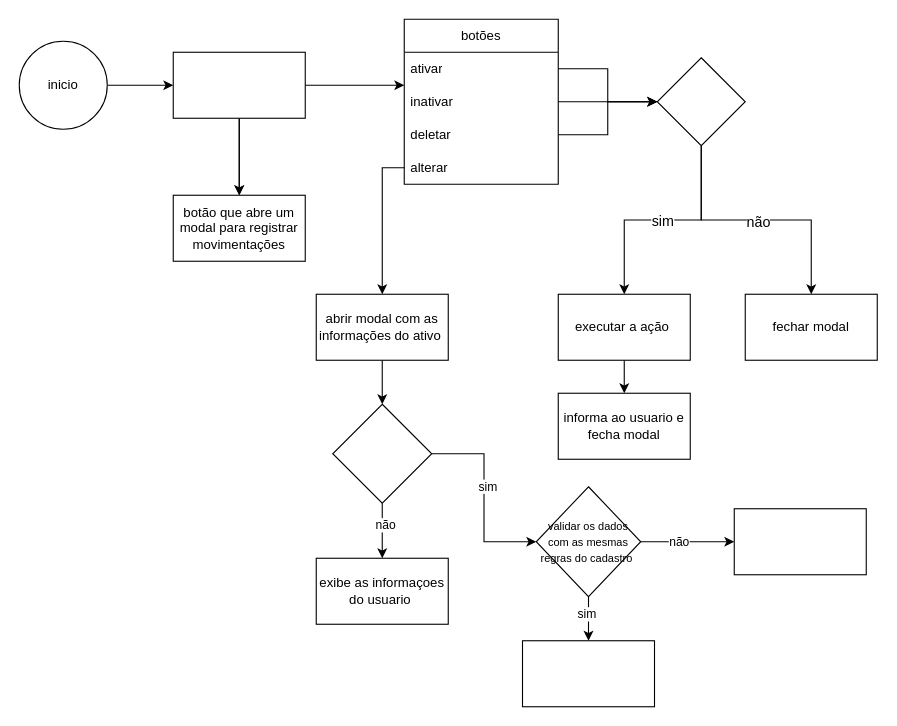
Image size: 897x726. Some labels were removed from this diagram. The centre of each missing label's shape, as x and y in pixels:
"alterar informações" belongs at [382,453].
"deseja realizar a ação" belongs at [700,101].
"filtragem de ativos" belongs at [238,84].
"informa ao usuario e volta para o modal" belongs at [799,541].
"realiza a alteraçao" belongs at [587,673].
